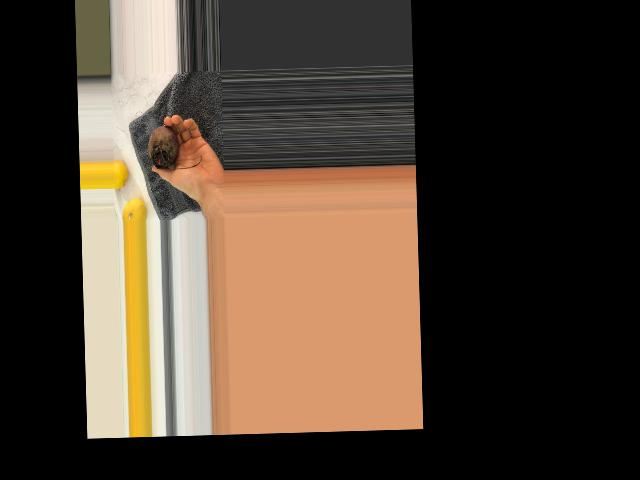beet: (147, 124, 202, 168)
